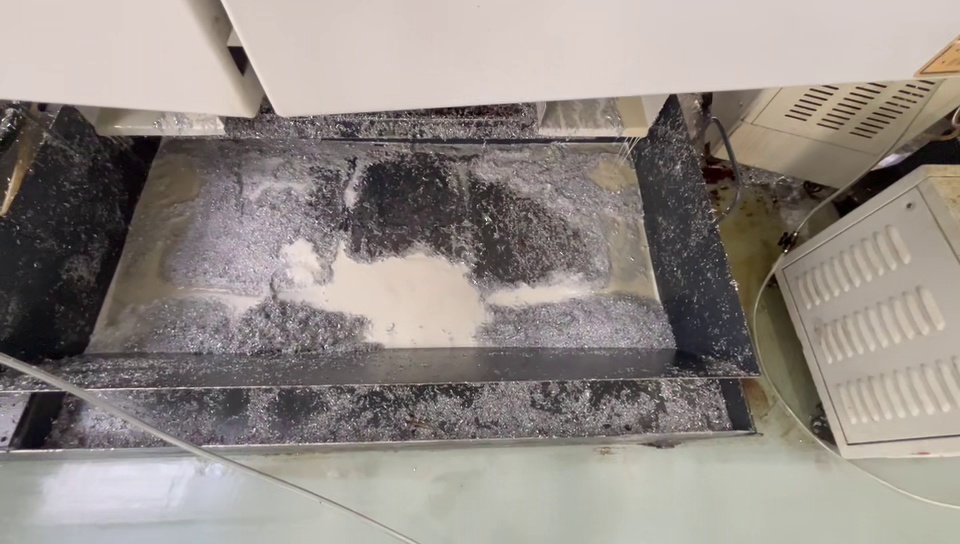iron_scrap: (185, 146, 332, 285), (313, 391, 724, 428), (234, 115, 569, 156), (114, 303, 367, 355), (484, 295, 675, 351), (480, 161, 646, 216), (572, 219, 615, 282)
